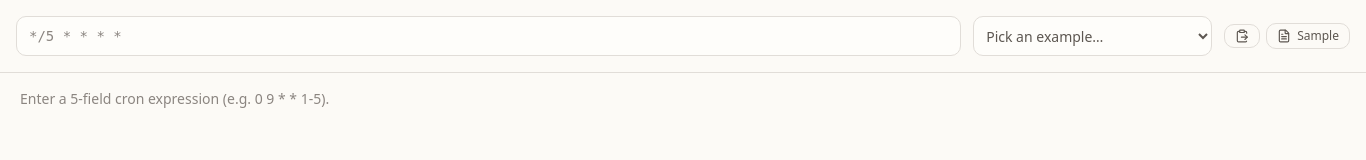
it: CronTool › loads an example from the picker
The image size is (1366, 160).
Select "Weekdays at 09:00 (0 9 * * 1-5)" in the dropdown named "Pick an example" at (1093, 36), box top-left (973, 16), bottom-right (1212, 56)
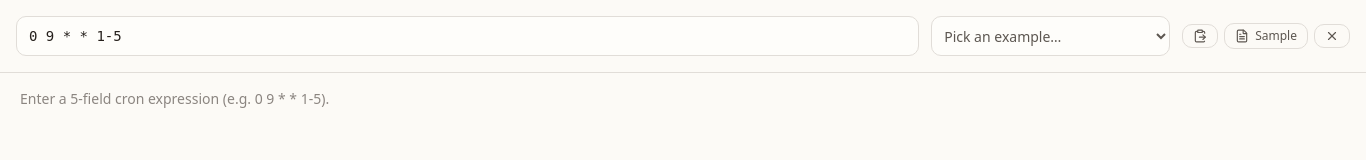
Expected: the field named "Cron expression" holds "0 9 * * 1-5", top-left (16, 16), bottom-right (919, 56)
